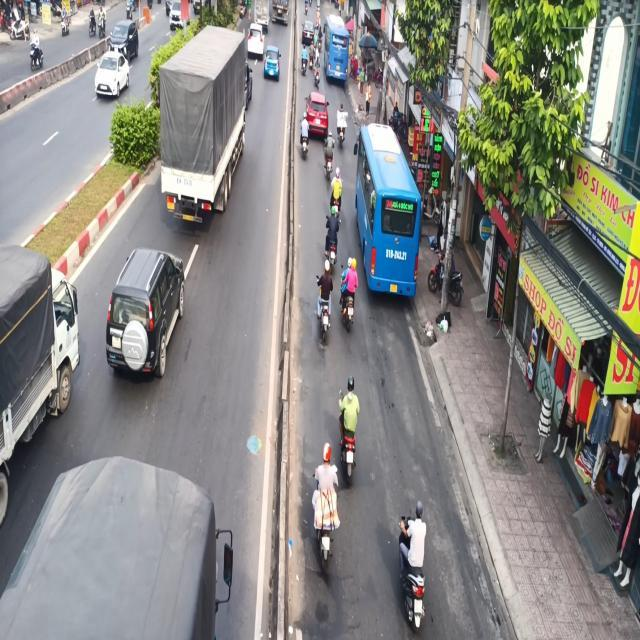bus: (353, 122, 422, 298)
car: (104, 247, 185, 379)
truck: (0, 242, 80, 527), (156, 24, 251, 230)
